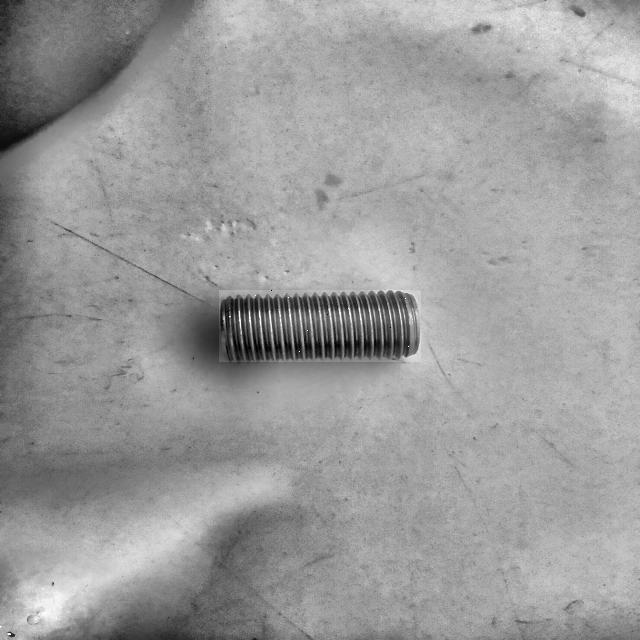Normal: (219, 290, 421, 362)
